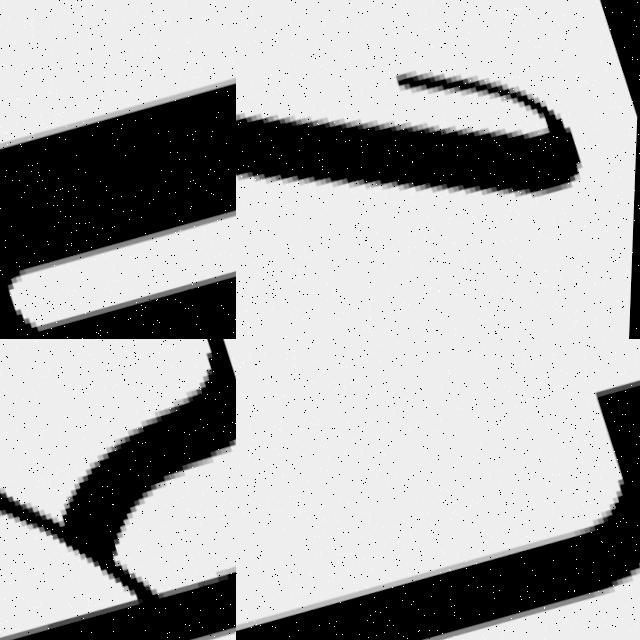K: (0, 339, 236, 640)
L: (236, 339, 640, 640)
N: (0, 0, 236, 339)
T: (236, 0, 599, 339)
